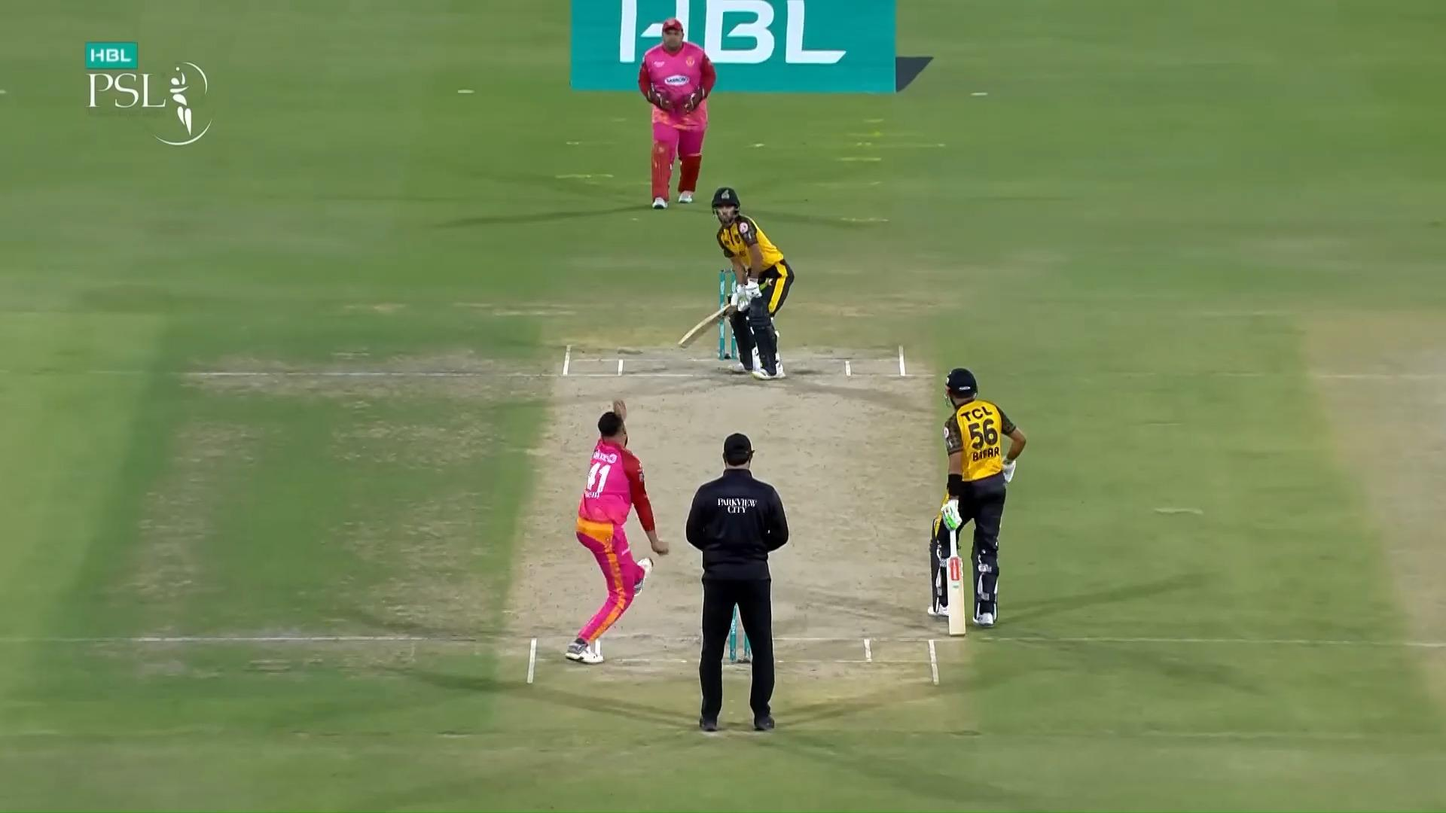batsman: (679, 187, 796, 380)
